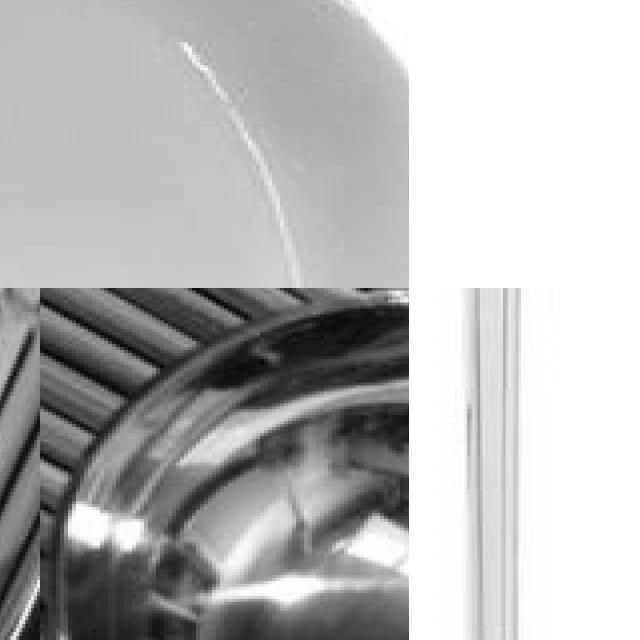spoons: (8, 316, 409, 640), (0, 0, 409, 288)
